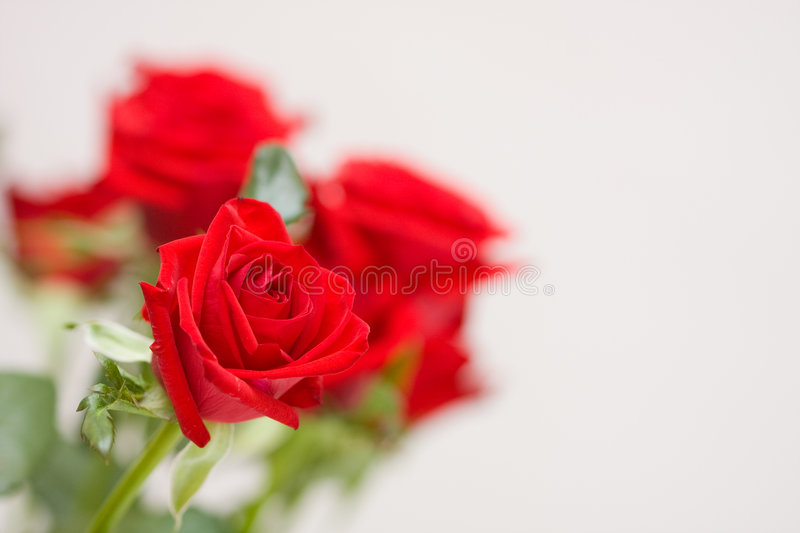RedRose: (166, 216, 339, 426), (324, 168, 478, 352), (84, 80, 280, 203)
